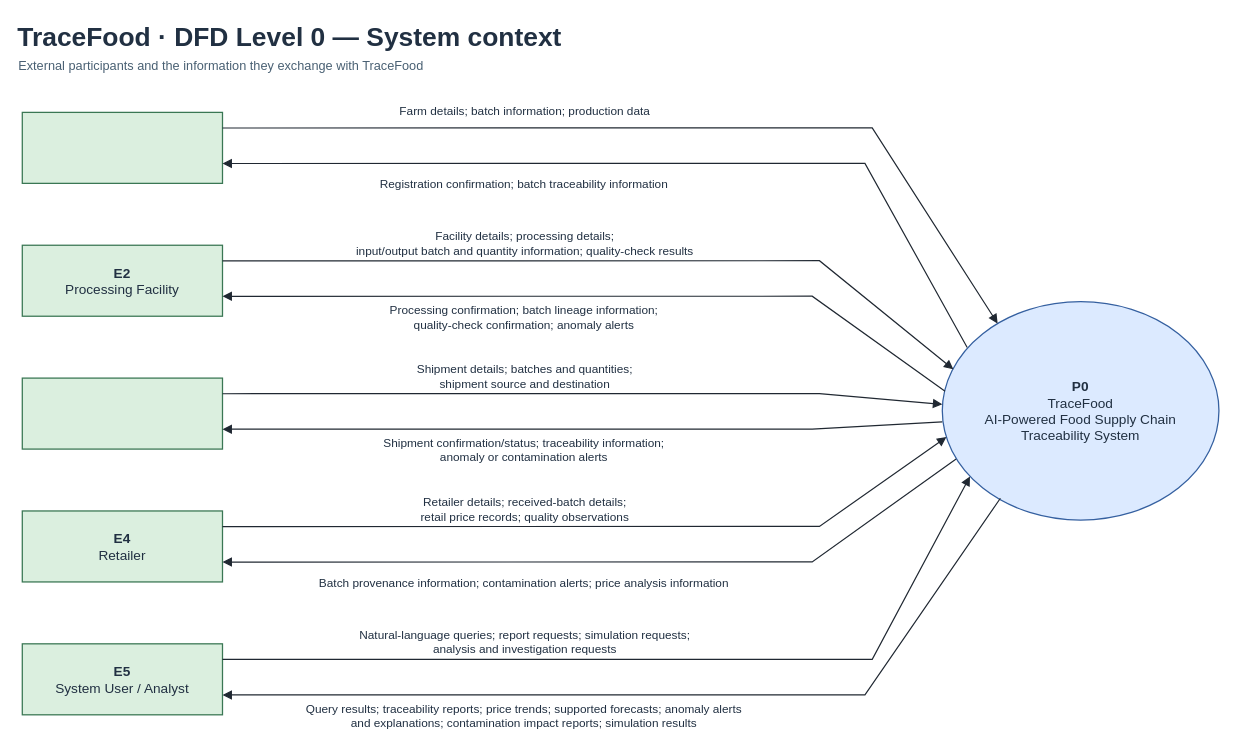
The diagram is 1239 pixels wide and 745 high, and some of its shapes have lost their labels. Each missing label, with the box of its shape:
E1 Farm / Producer: (21, 111, 223, 184)
E3 Distributor / Transporter: (21, 377, 223, 449)
